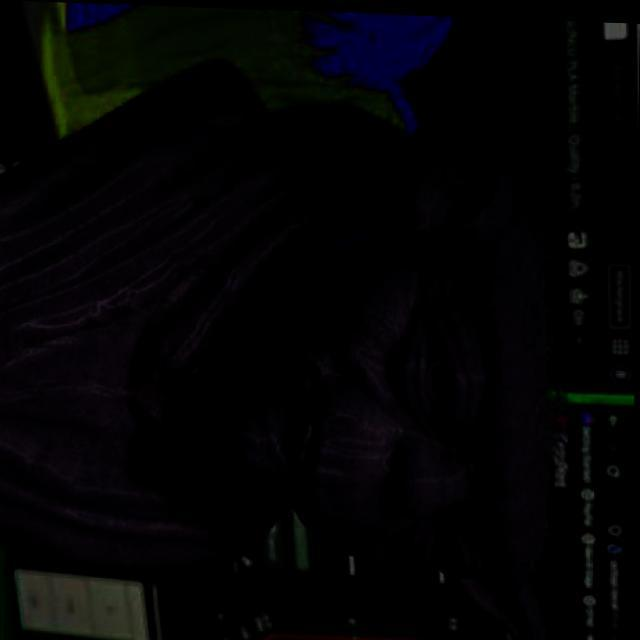spaghetti: (533, 183, 622, 282), (532, 318, 570, 456)
